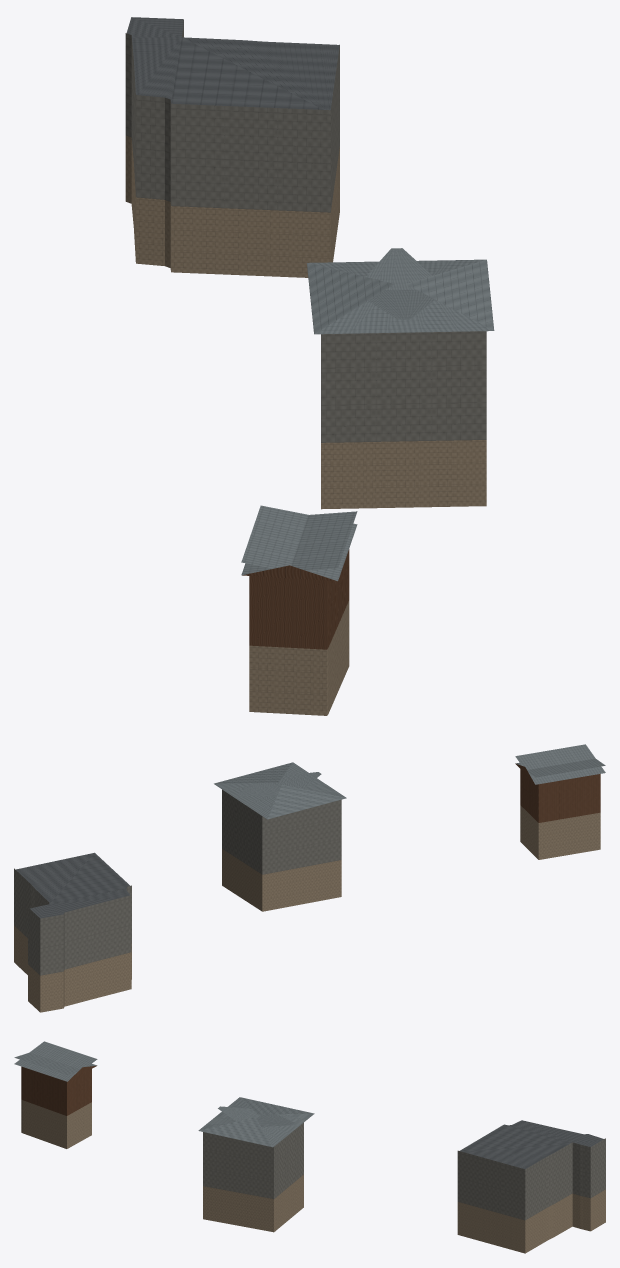
File: bld_c-23_11_549.gltf
3 views of the same model, one above another, from view 1: azimuth 30°, elevation 25°; view 2: azimuth 150°, elevation 25°; view 3: azimuth 270°, elevation 25° (orthographic). The views are drawn at different scales.
Parts seen in each view (by area): view 1: bld_c-23_11_549; view 2: bld_c-23_11_549; view 3: bld_c-23_11_549.
Boxes of the visible parts, x1,y1,x2,y2 form: bld_c-23_11_549: (125,17,494,715); bld_c-23_11_549: (14,744,605,1012); bld_c-23_11_549: (14,1041,605,1253).
Size of the model in its own units: 46.71 by 14.7 by 82.59.
Materials: 7 (7 with a texture image).
